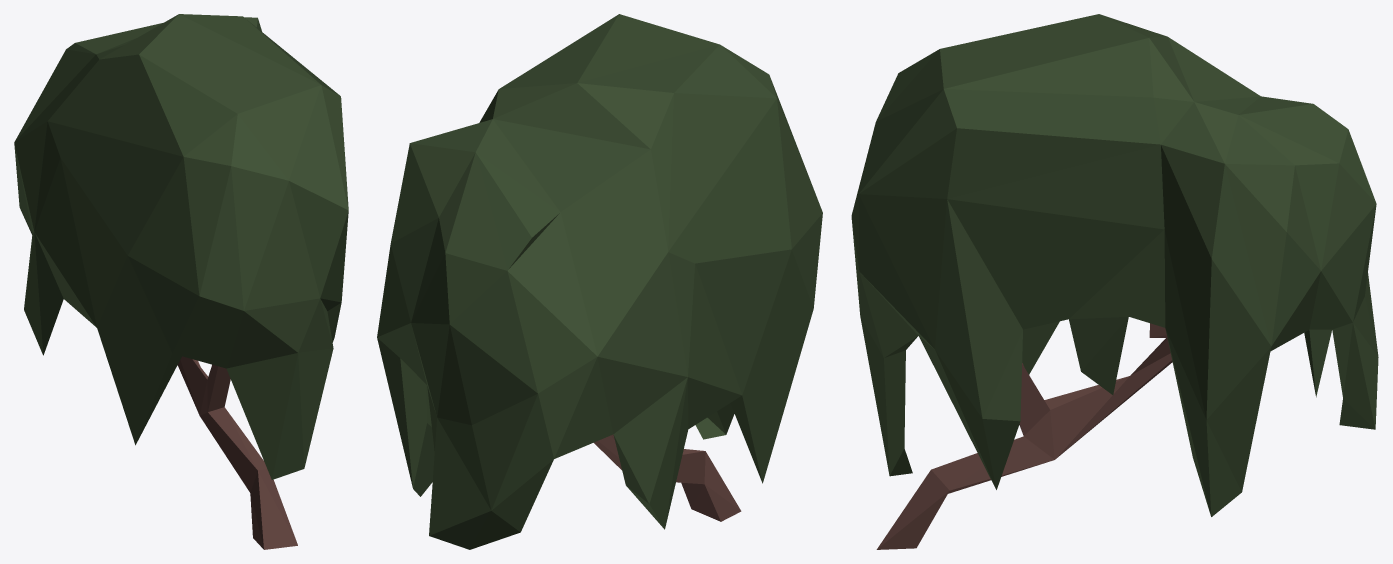
File: willow-tree-2.gltf
The picture shows the model from 3 angles, left to right: view 1: azimuth 30°, elevation 25°; view 2: azimuth 150°, elevation 25°; view 3: azimuth 270°, elevation 25°; orthographic projection. The views are drawn at different scales.
Parts seen in each view (by area): view 1: Willow_2_Cube.011; view 2: Willow_2_Cube.011; view 3: Willow_2_Cube.011.
Boxes of the visible parts, x1,y1,x2,y2 form: Willow_2_Cube.011: (14, 14, 348, 549); Willow_2_Cube.011: (377, 14, 822, 549); Willow_2_Cube.011: (851, 14, 1378, 549).
Size of the model in its own units: 0.0194 by 0.0333 by 0.031.
